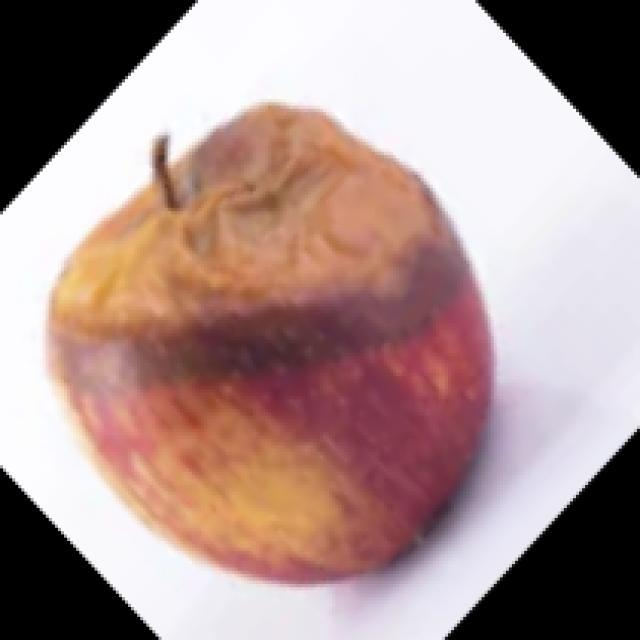Rotten: (75, 102, 500, 578)
